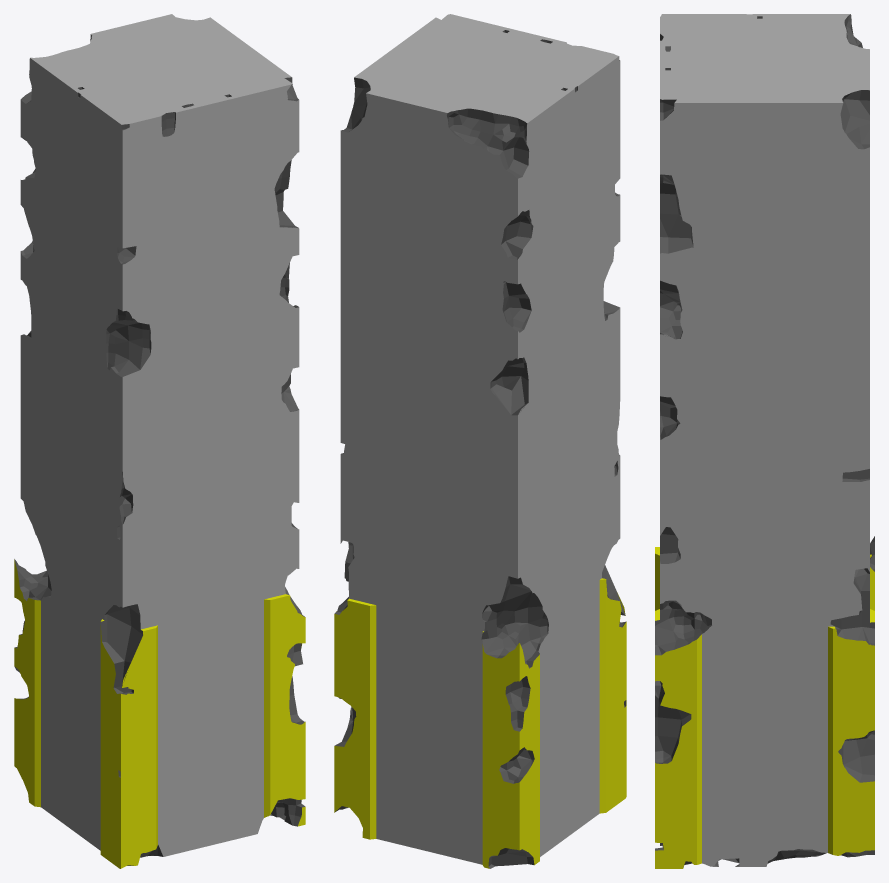
Rendered from pillar new 3.glb.
The picture shows the model from 3 angles, left to right: view 1: azimuth 30°, elevation 25°; view 2: azimuth 150°, elevation 25°; view 3: azimuth 270°, elevation 25°; orthographic projection. The views are drawn at different scales.
Visible parts, largest first — view 1: pillier neuf.002; view 2: pillier neuf.002; view 3: pillier neuf.002.
Part boxes in pixels (box(x1,y1,x2,y2)): pillier neuf.002: box(14, 14, 305, 868); pillier neuf.002: box(334, 14, 626, 868); pillier neuf.002: box(655, 14, 874, 868).
Size of the model in its own units: 3.35 by 12.83 by 3.35.
